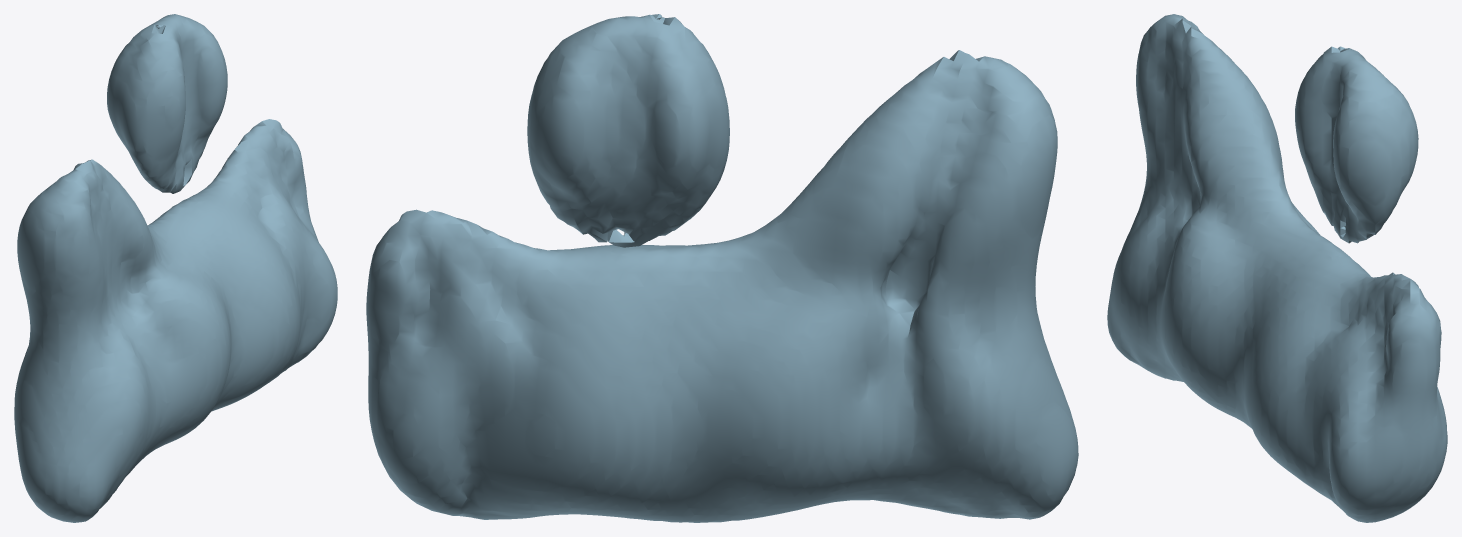
Rendered from envelope.classical.diff_stress.p90.glb.
3 renders of one model, left to right at view 1: azimuth 30°, elevation 25°; view 2: azimuth 150°, elevation 25°; view 3: azimuth 270°, elevation 25°, orthographic. The views are drawn at different scales.
Visible parts, largest first — view 1: envelope.classical.diff_stress.p90; view 2: envelope.classical.diff_stress.p90; view 3: envelope.classical.diff_stress.p90.
Part boxes in pixels (bbox=[...]): envelope.classical.diff_stress.p90: bbox=[14, 14, 337, 522]; envelope.classical.diff_stress.p90: bbox=[366, 14, 1078, 522]; envelope.classical.diff_stress.p90: bbox=[1107, 14, 1447, 522].
Size of the model in its own units: 11.13 by 10.35 by 7.77.
